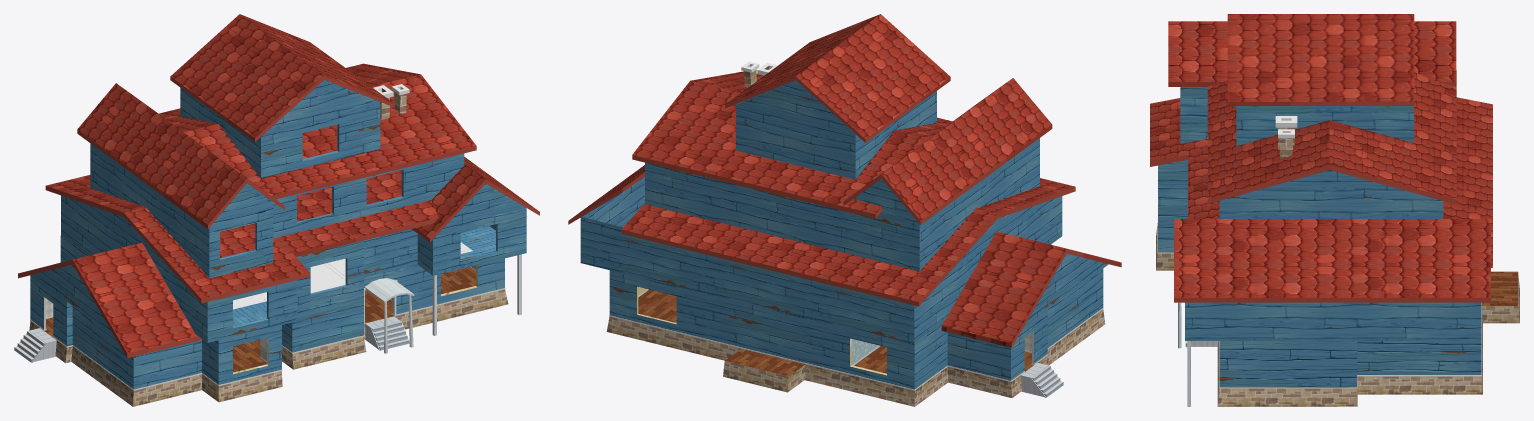
The picture shows the model from 3 angles, left to right: view 1: azimuth 30°, elevation 25°; view 2: azimuth 150°, elevation 25°; view 3: azimuth 270°, elevation 25°; orthographic projection. The views are drawn at different scales.
Parts seen in each view (by area): view 1: map_floor_2_material_2_0, map_floor_1_outside_m_0, map_floor_1_outside_foundation_0, map_floor_1_floor_m_Inst_0, map_floor_1_stairs__stairs_psd_0, map_floor_1_inside_m_0; view 2: map_floor_1_outside_m_0, map_floor_2_material_2_0, map_floor_1_outside_foundation_0, map_floor_1_floor_m_Inst_0, map_floor_1_stairs__stairs_psd_0, map_floor_1_inside_m_0; view 3: map_floor_2_material_2_0, map_floor_1_outside_m_0, map_floor_1_outside_foundation_0, map_floor_1_floor_m_Inst_0.
Part boxes in pixels (<box>): map_floor_2_material_2_0: <box>18,14,539,358</box>; map_floor_1_outside_m_0: <box>30,79,526,389</box>; map_floor_1_outside_foundation_0: <box>29,84,521,406</box>; map_floor_1_floor_m_Inst_0: <box>44,267,475,372</box>; map_floor_1_stairs__stairs_psd_0: <box>14,316,409,362</box>; map_floor_1_inside_m_0: <box>44,239,477,374</box>; map_floor_1_outside_m_0: <box>580,80,1108,389</box>; map_floor_2_material_2_0: <box>568,14,1121,347</box>; map_floor_1_outside_foundation_0: <box>606,61,1105,406</box>; map_floor_1_floor_m_Inst_0: <box>638,289,1033,376</box>; map_floor_1_stairs__stairs_psd_0: <box>1020,363,1063,397</box>; map_floor_1_inside_m_0: <box>637,286,1033,375</box>; map_floor_2_material_2_0: <box>1150,14,1492,302</box>; map_floor_1_outside_m_0: <box>1158,87,1481,387</box>; map_floor_1_outside_foundation_0: <box>1156,116,1519,406</box>; map_floor_1_floor_m_Inst_0: <box>1482,271,1517,305</box>.
Size of the model in its own units: 2926 by 1768 by 1986.
Materials: 6 (6 with a texture image).
